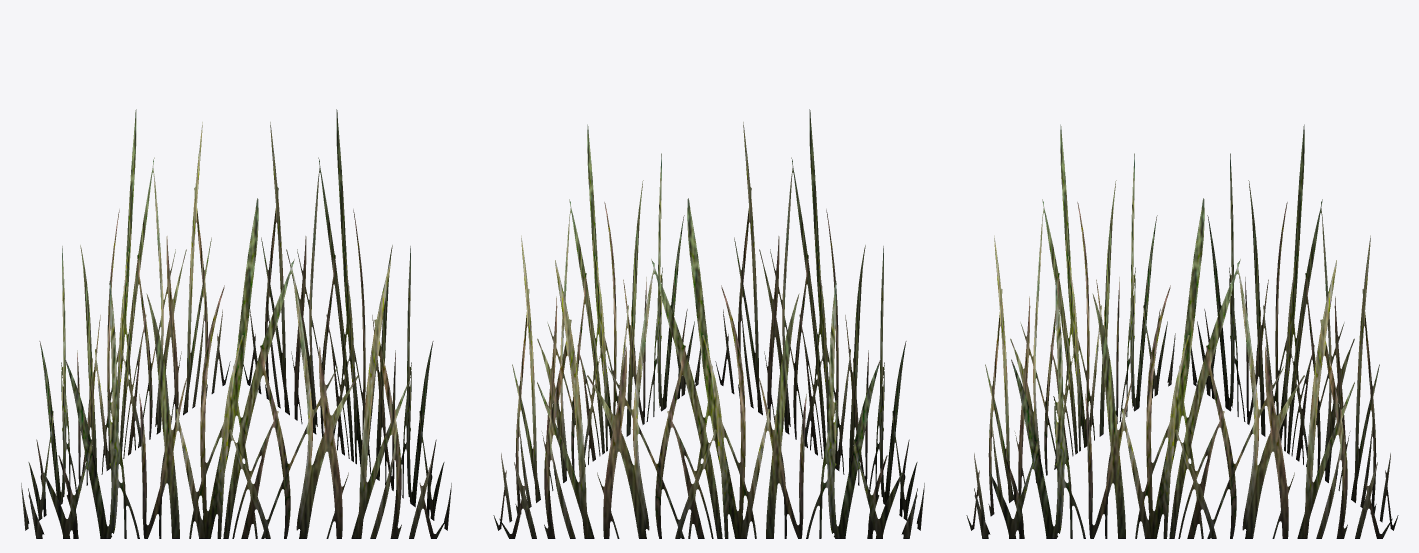
The model's file is Grass_Triangle_3Planes.fbx.
3 renders of one model, left to right at view 1: azimuth 30°, elevation 25°; view 2: azimuth 150°, elevation 25°; view 3: azimuth 270°, elevation 25°, orthographic.
Parts seen in each view (by area): view 1: Grass_Triangle_3Planes; view 2: Grass_Triangle_3Planes; view 3: Grass_Triangle_3Planes.
Part boxes in pixels (<box>): Grass_Triangle_3Planes: <box>21,109,451,538</box>; Grass_Triangle_3Planes: <box>493,109,924,538</box>; Grass_Triangle_3Planes: <box>966,124,1398,538</box>.
Bounding box in the file's own units: 69.28 × 72 × 80.
Materials: 1 (1 with a texture image).
